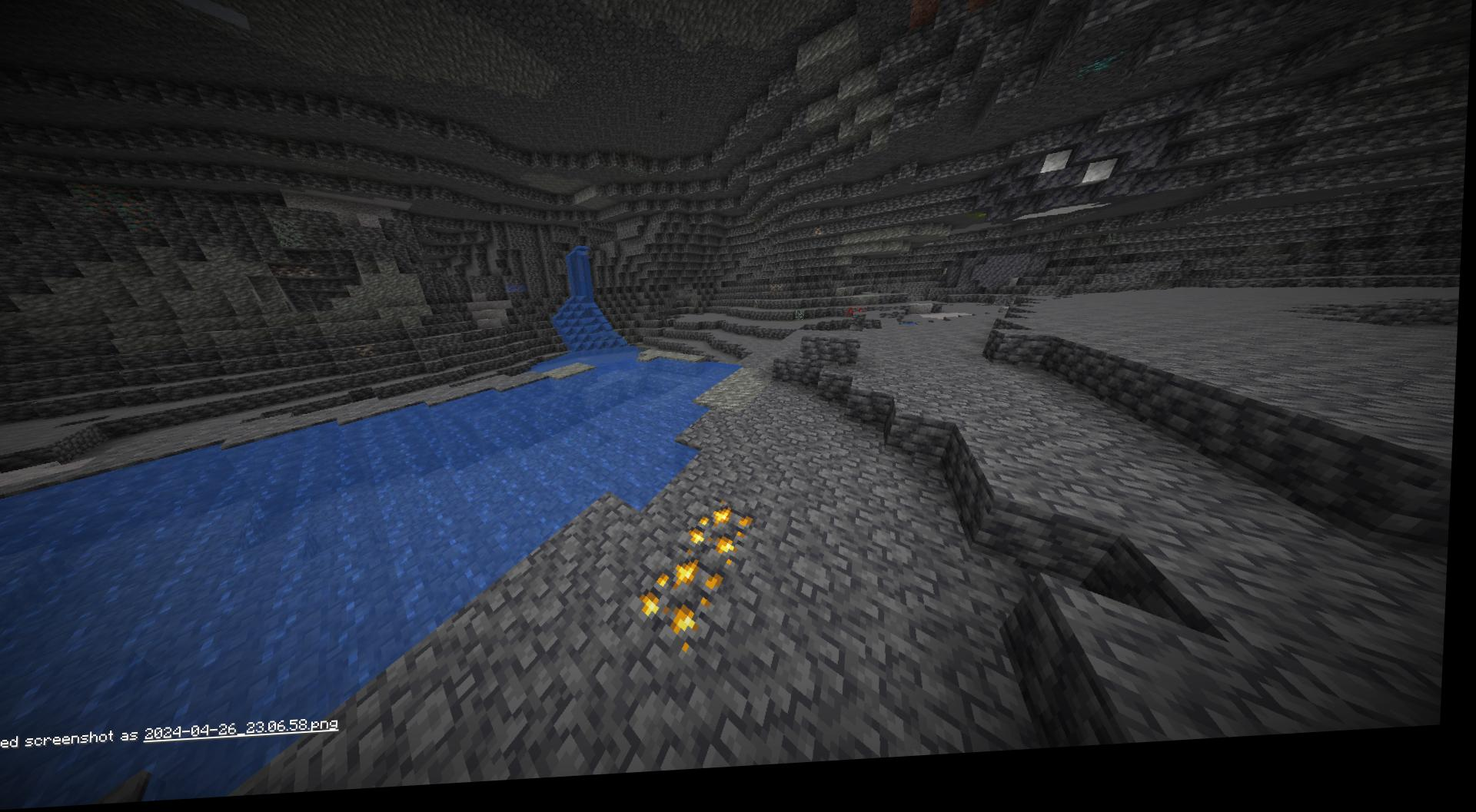diamond ore: (1077, 62, 1129, 95)
gold ore: (647, 561, 729, 654), (688, 502, 765, 577)
iron ore: (273, 262, 321, 283), (349, 345, 378, 364)
redstone ore: (848, 313, 874, 335)
